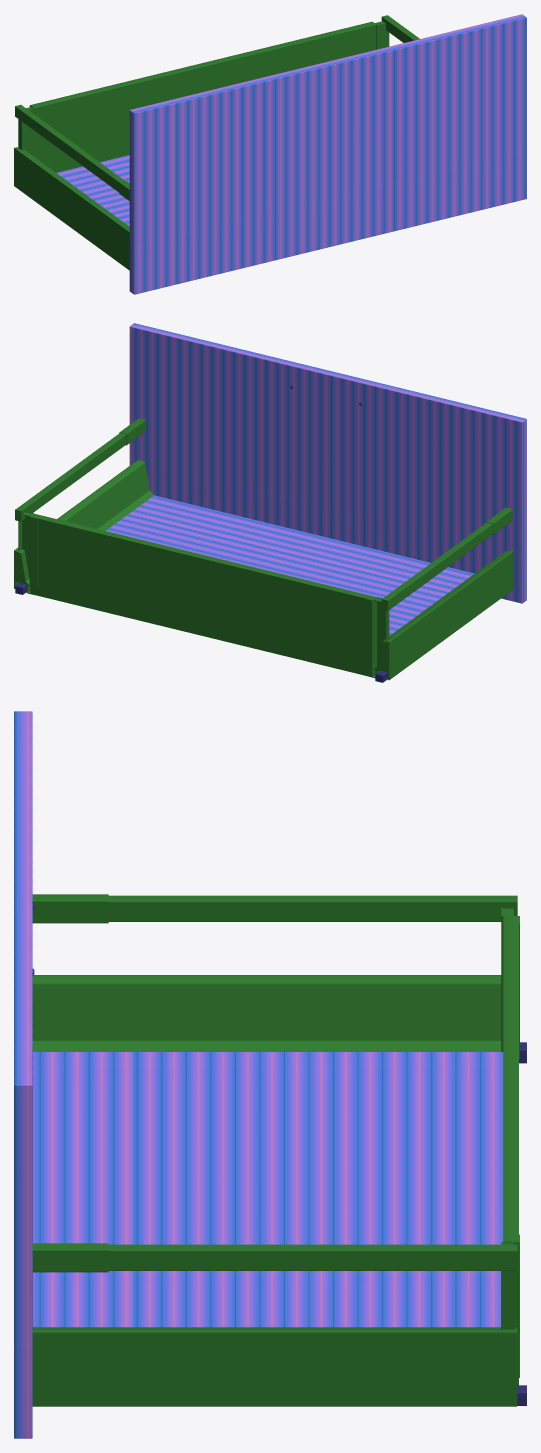
The model's file is SM_Kitchen_11_Base_Drawer_03.fbx.
3 views of the same model, one above another, from view 1: azimuth 30°, elevation 25°; view 2: azimuth 150°, elevation 25°; view 3: azimuth 270°, elevation 25° (orthographic). The views are drawn at different scales.
Parts seen in each view (by area): view 1: SM_Kitchen_11_Base_Drawer_03; view 2: SM_Kitchen_11_Base_Drawer_03; view 3: SM_Kitchen_11_Base_Drawer_03.
Boxes of the visible parts, box(x1,y1,x2,y2) form: SM_Kitchen_11_Base_Drawer_03: box(14, 14, 526, 294); SM_Kitchen_11_Base_Drawer_03: box(14, 323, 526, 682); SM_Kitchen_11_Base_Drawer_03: box(14, 711, 526, 1438).
Size of the model in its own units: 89.69 by 39.6 by 51.99.
Materials: 4 (2 with a texture image).
